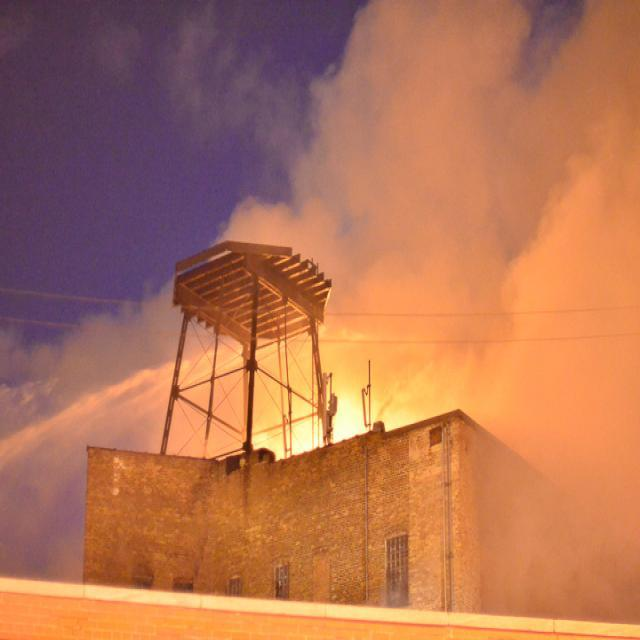Fire: (279, 391, 398, 442)
